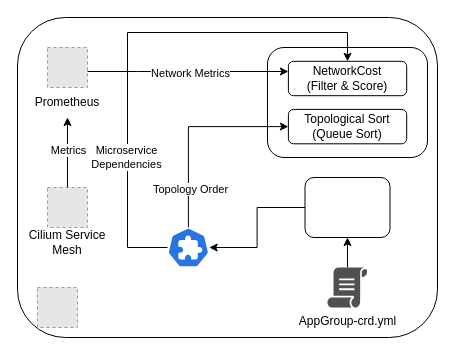
Some shapes in this 455 by 363 pixel diagram are drawn without their labels. Grey dashed boxes stand in for pictures. Here are the shapes that lost their labels. From the top down, the centre of each, then its label:
At point 347,207: "AppGroup (Controller)".
At point 187,247: "AppGroup Custom Resource".
